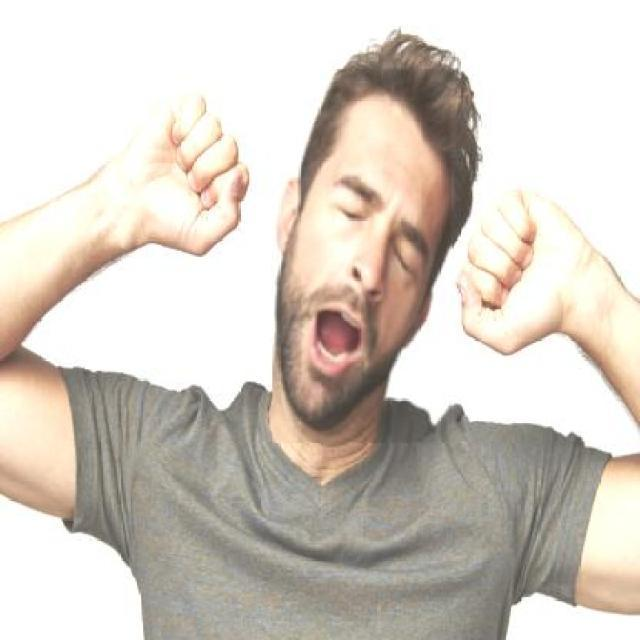sleepy: (281, 172, 445, 430)
